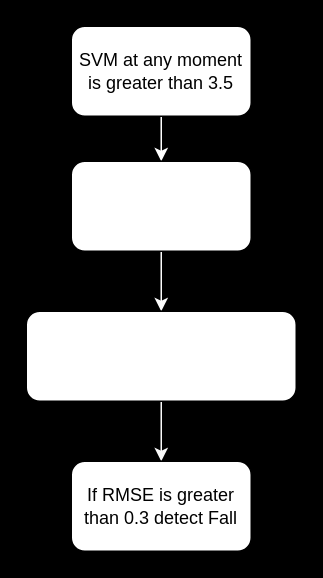
The diagram is 323 pixels wide and 578 high, and some of its shapes have lost their labels. The shapes that lost their labels are listed below. From the top down, each one's box as (x1, y1, x2, y2) in pixels, then its label:
(70, 160, 251, 251): Calculate Vertical acceleration
(25, 310, 296, 401): Find RMSE between Vertical Acceleration and SVM
